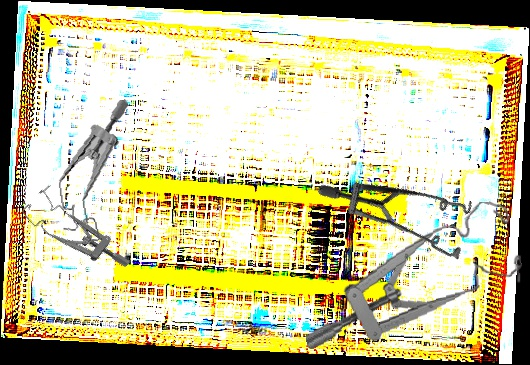Speculum: (293, 198, 529, 350), (315, 117, 495, 301), (45, 98, 149, 252), (18, 176, 133, 295)
